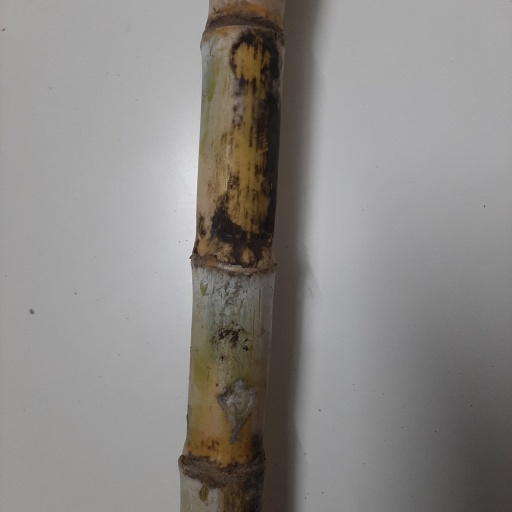Bud: (239, 247, 258, 270)
